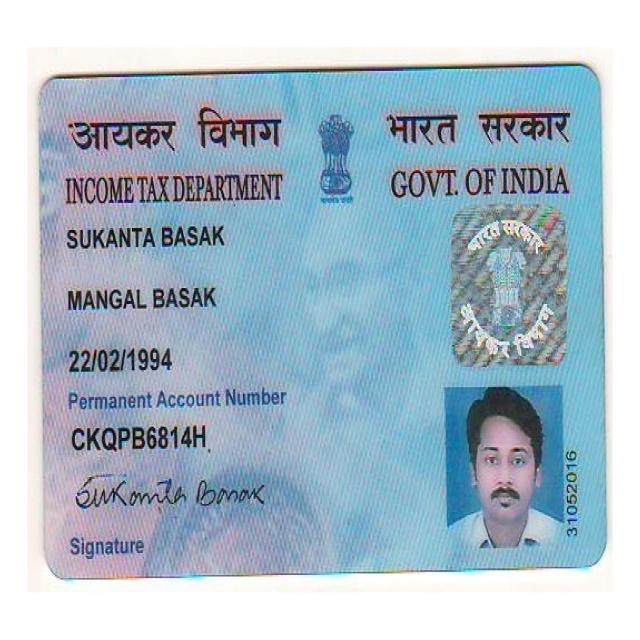pan_card: (44, 76, 597, 569)
